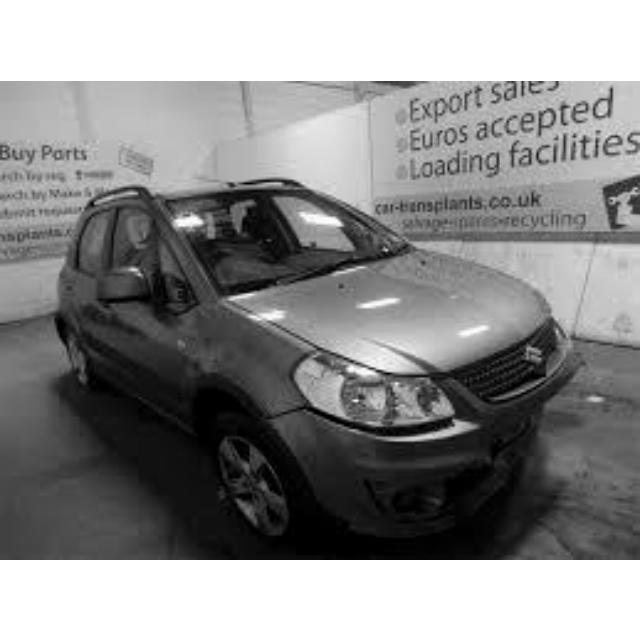fender-dent: (184, 323, 307, 421)
front-bumper-dent: (329, 443, 526, 527)
